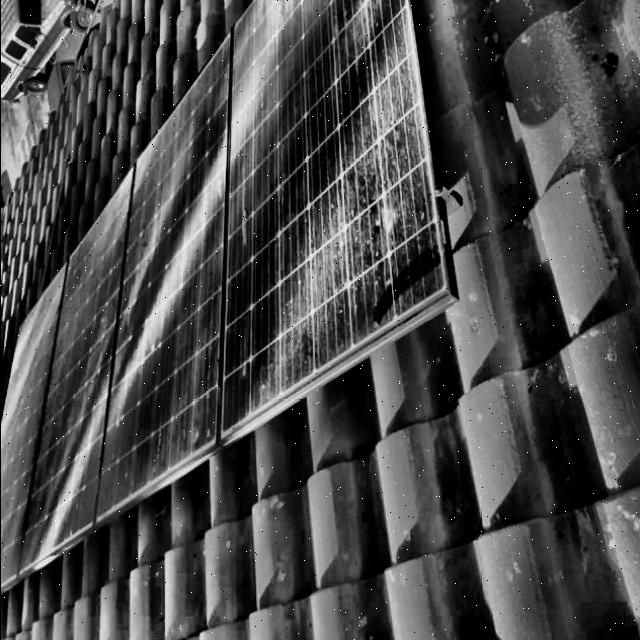Surface Contaminant: (0, 0, 446, 590)
